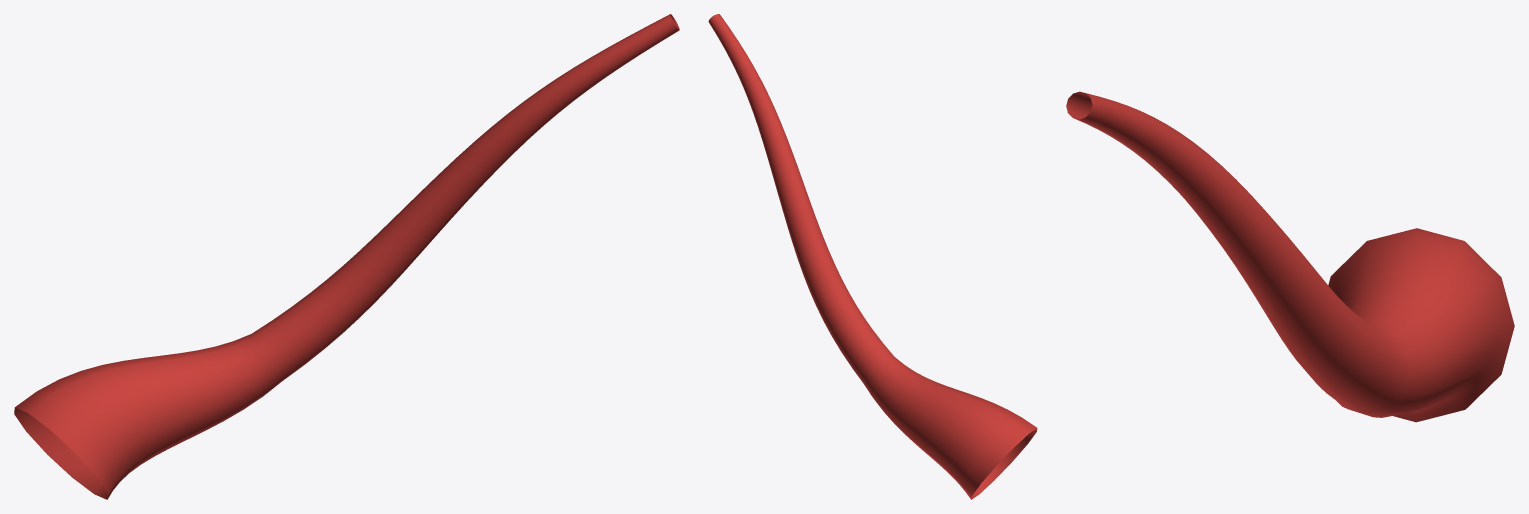
3 views of the same model, side by side, from view 1: azimuth 30°, elevation 25°; view 2: azimuth 150°, elevation 25°; view 3: azimuth 270°, elevation 25° (orthographic). The views are drawn at different scales.
Visible parts, largest first — view 1: 左侧肾动脉前支; view 2: 左侧肾动脉前支; view 3: 左侧肾动脉前支.
Part boxes in pixels (x1=…): 左侧肾动脉前支: x1=14, y1=14, x2=679, y2=499; 左侧肾动脉前支: x1=708, y1=14, x2=1037, y2=499; 左侧肾动脉前支: x1=1066, y1=91, x2=1514, y2=422.
Bounding box in the file's own units: 0.0486 × 0.0385 × 0.0234.
